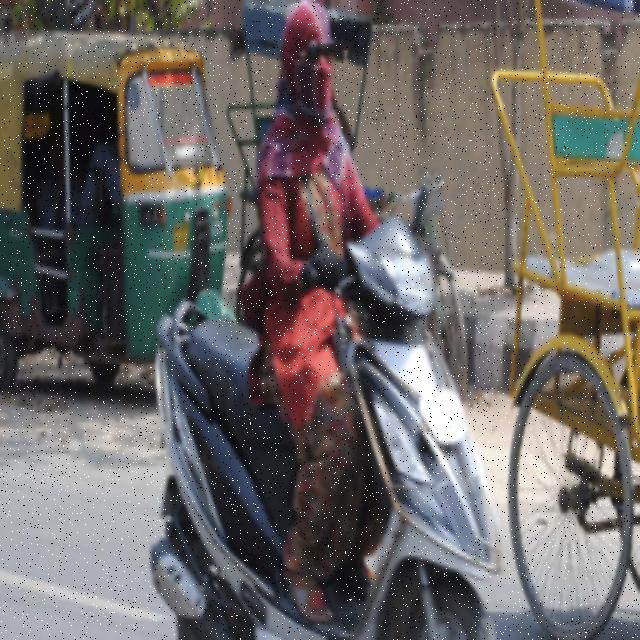not_triplets: (145, 0, 508, 640)
